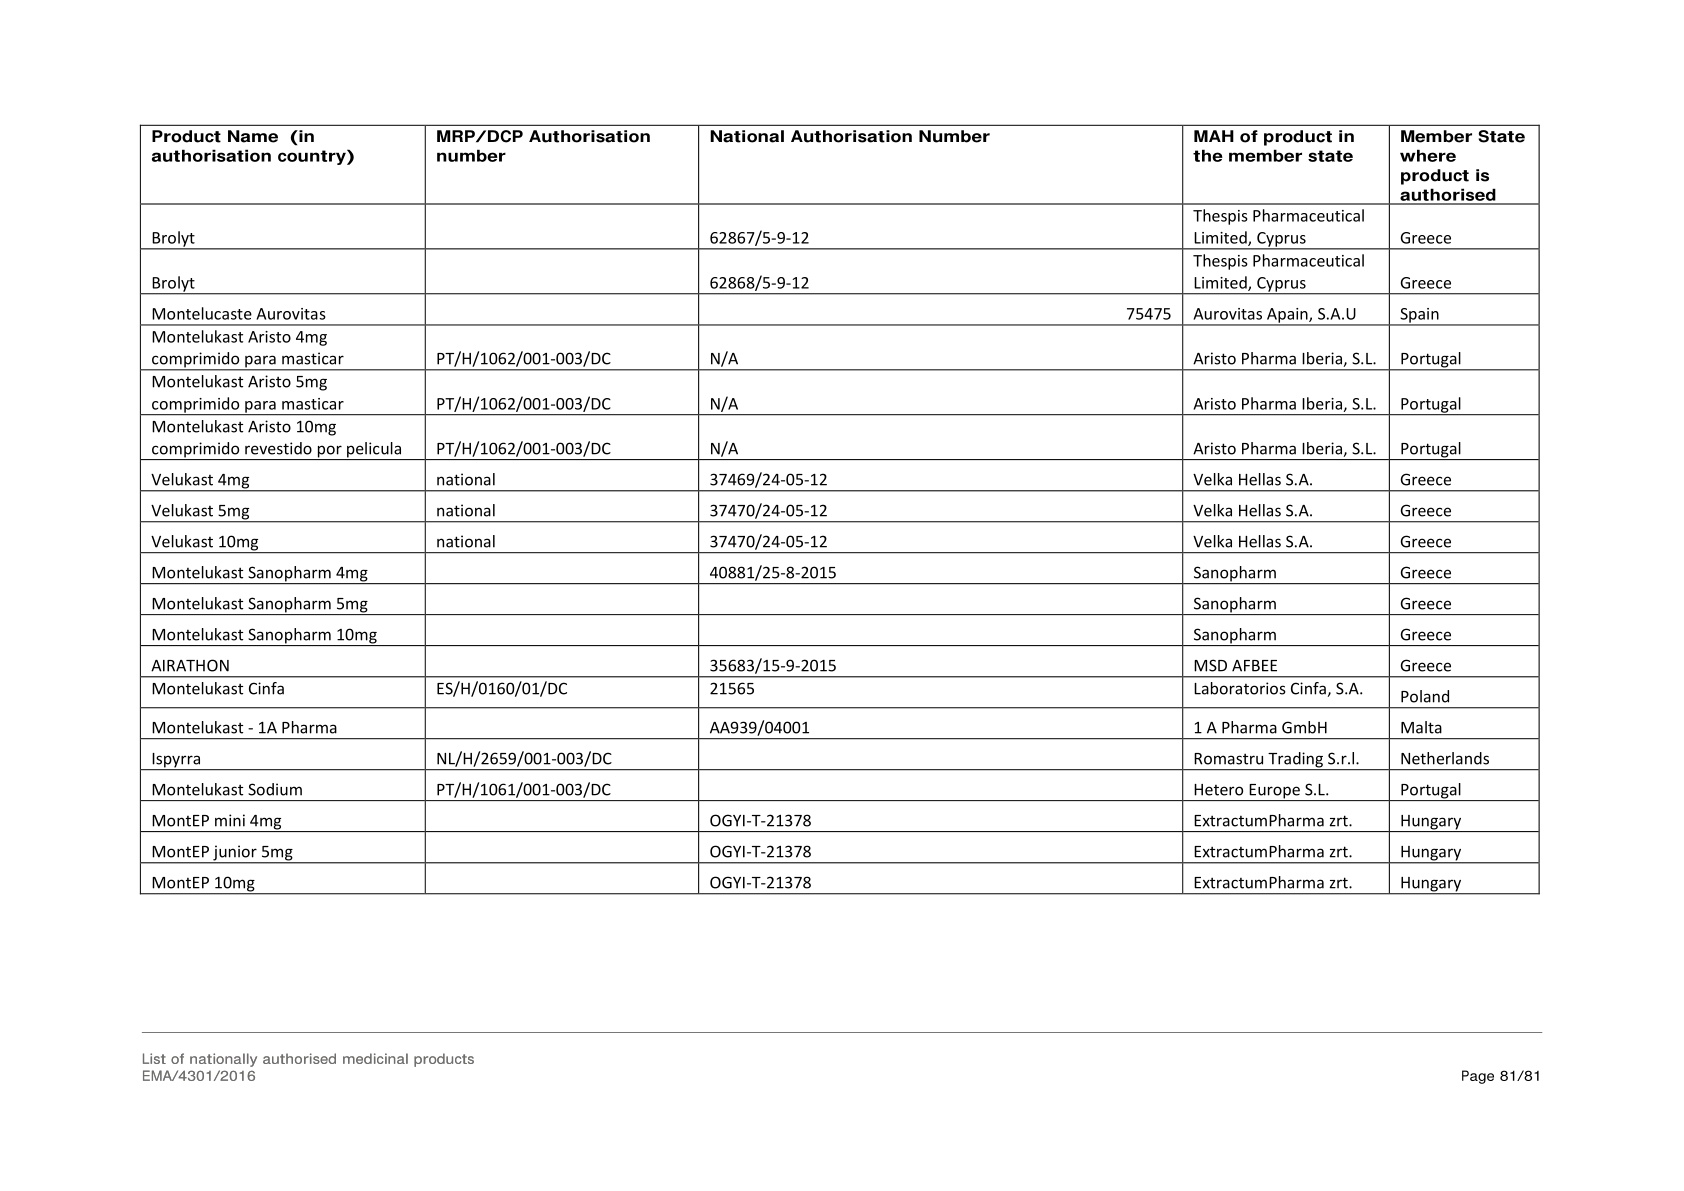full_lined: (138, 122, 1540, 895)
